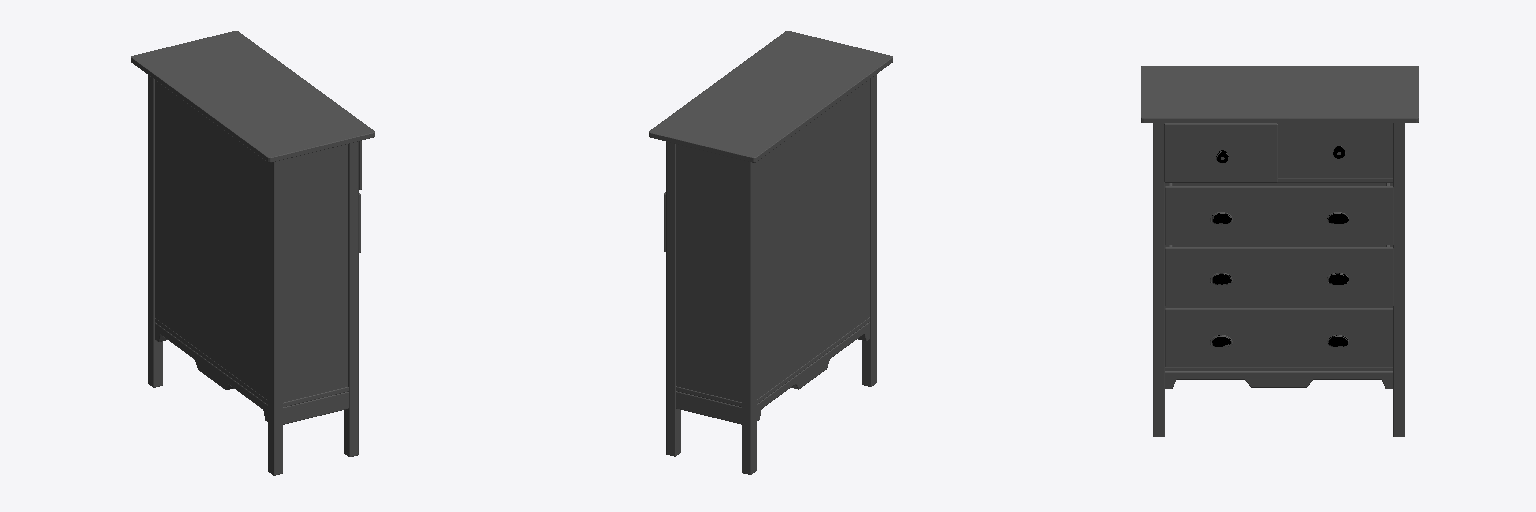
Rendered from Drawer.obj.
3 renders of one model, left to right at view 1: azimuth 30°, elevation 25°; view 2: azimuth 150°, elevation 25°; view 3: azimuth 270°, elevation 25°, orthographic.
Visible parts, largest first — view 1: Drawer; view 2: Drawer; view 3: Drawer.
Boxes of the visible parts, box(x1,y1,x2,y2) form: Drawer: box(131, 31, 374, 475); Drawer: box(649, 31, 892, 474); Drawer: box(1141, 66, 1418, 436).
Bounding box in the file's own units: 67.41 × 185 × 143.